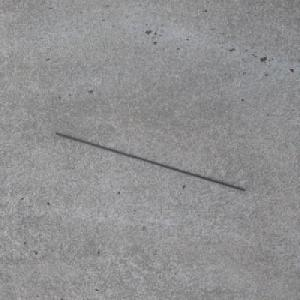LuggagePart: (52, 132, 247, 192)
